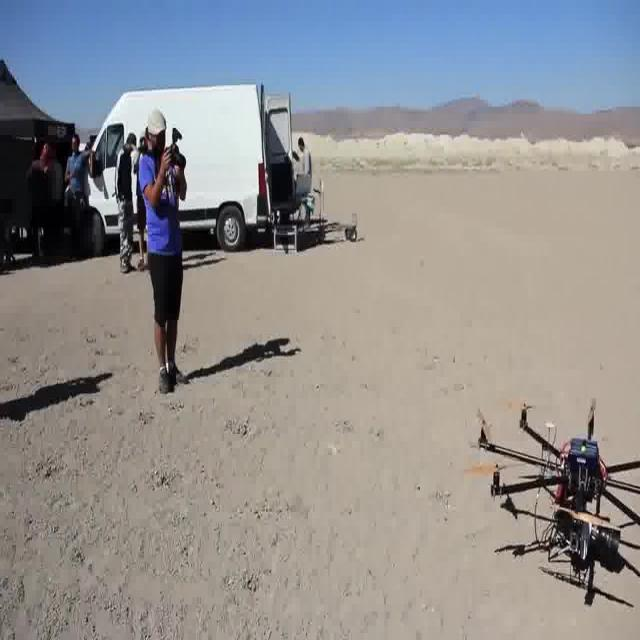drones: (458, 385, 640, 640)
